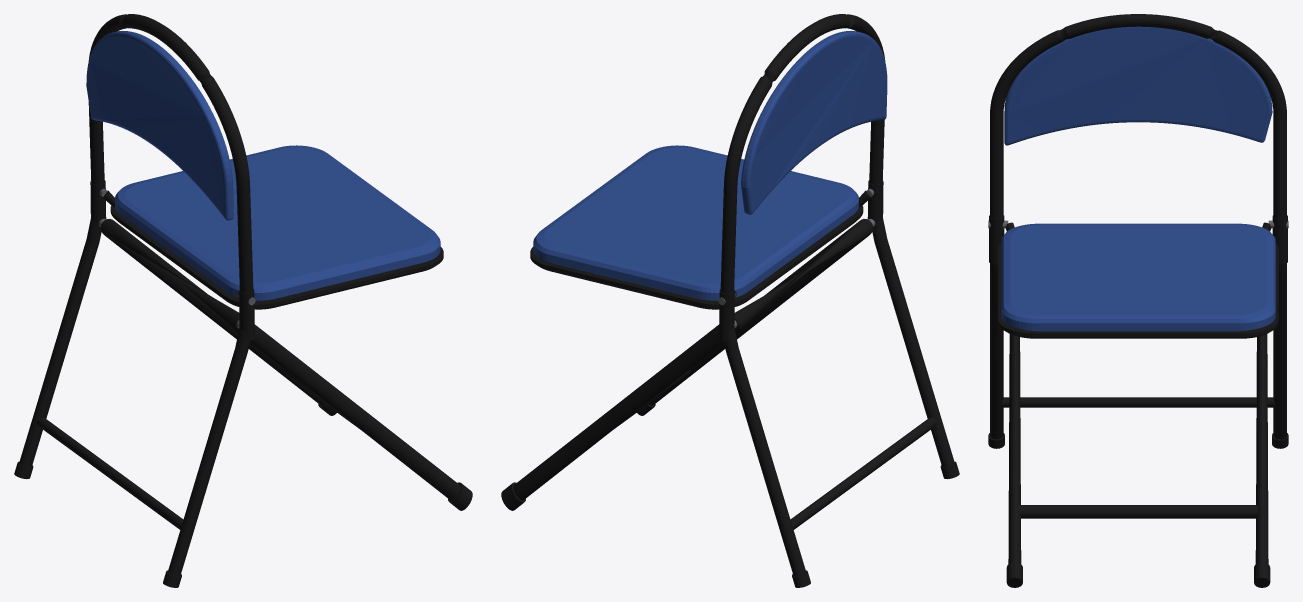
Rendered from appearance.glb.
The picture shows the model from 3 angles, left to right: view 1: azimuth 30°, elevation 25°; view 2: azimuth 150°, elevation 25°; view 3: azimuth 270°, elevation 25°; orthographic projection. The views are drawn at different scales.
Parts seen in each view (by area): view 1: visual_2_2, visual_0_2, visual_0_1, visual_1_2, visual_2_1; view 2: visual_2_2, visual_0_2, visual_0_1, visual_1_2, visual_2_1; view 3: visual_2_2, visual_0_1, visual_0_2, visual_1_2, visual_2_1, visual_1_1.
Boxes of the visible parts, left/top/right/bottom form: visual_2_2: left=115, top=145, right=440, bottom=300; visual_0_2: left=19, top=14, right=254, bottom=575; visual_0_1: left=86, top=31, right=233, bottom=220; visual_1_2: left=101, top=219, right=460, bottom=500; visual_2_1: left=102, top=190, right=443, bottom=309; visual_2_2: left=533, top=145, right=858, bottom=300; visual_0_2: left=719, top=14, right=954, bottom=575; visual_0_1: left=741, top=31, right=887, bottom=214; visual_1_2: left=513, top=219, right=872, bottom=500; visual_2_1: left=530, top=190, right=871, bottom=309; visual_2_2: left=1001, top=223, right=1275, bottom=331; visual_0_1: left=1004, top=26, right=1272, bottom=145; visual_0_2: left=989, top=14, right=1287, bottom=439; visual_1_2: left=1008, top=334, right=1268, bottom=586; visual_2_1: left=998, top=222, right=1278, bottom=338; visual_1_1: left=1006, top=562, right=1270, bottom=587.
Size of the model in its own units: 0.539 by 0.7964 by 0.464.
